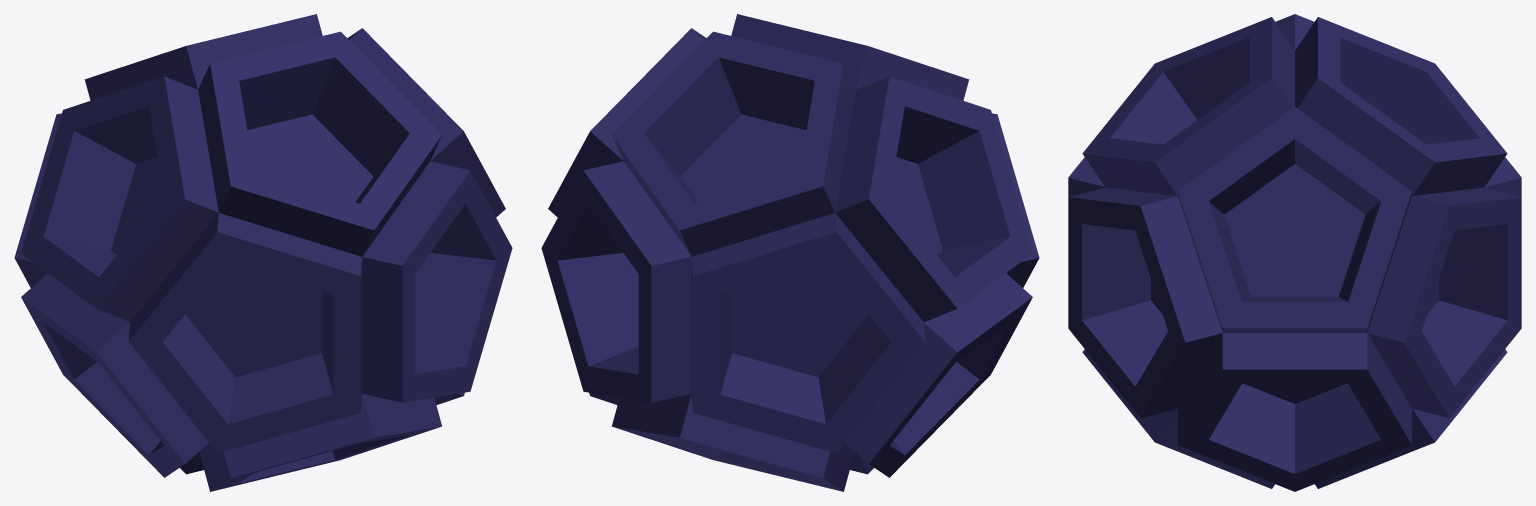
3 views of the same model, side by side, from view 1: azimuth 30°, elevation 25°; view 2: azimuth 150°, elevation 25°; view 3: azimuth 270°, elevation 25° (orthographic). The views are drawn at different scales.
Visible parts, largest first — view 1: core.001; view 2: core.001; view 3: core.001.
Part boxes in pixels (<box>): core.001: <box>14,14,512,491</box>; core.001: <box>541,14,1039,491</box>; core.001: <box>1068,14,1521,491</box>.
Bounding box in the file's own units: 5.61 × 5.61 × 5.61.
